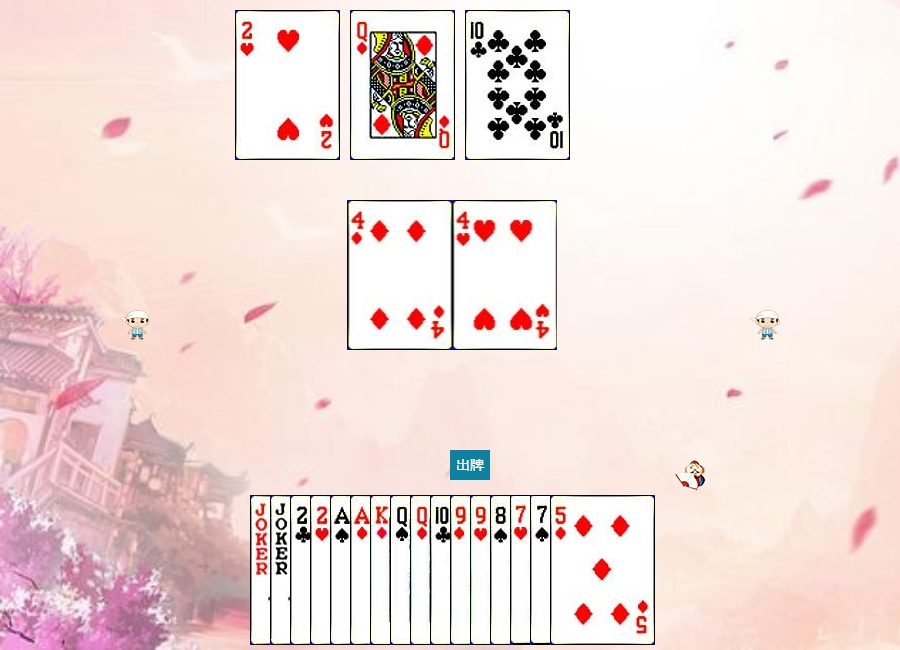10~2: (465, 10, 570, 160), (430, 495, 535, 645)
12~1: (350, 10, 455, 160), (410, 495, 515, 645)
12~4: (390, 495, 495, 645)
13~1: (370, 495, 475, 645)
14~1: (350, 495, 455, 645)
14~4: (330, 495, 435, 645)
15~2: (290, 495, 395, 645)
15~3: (235, 10, 340, 160), (310, 495, 415, 645)
17~3: (270, 495, 375, 645)
18~4: (250, 495, 355, 645)
4~1: (348, 200, 453, 350)
4~3: (453, 200, 558, 350)
5~1: (550, 495, 655, 645)
7~3: (510, 495, 615, 645)
7~4: (530, 495, 635, 645)
8~4: (490, 495, 595, 645)
9~1: (450, 495, 555, 645)
9~3: (470, 495, 575, 645)
